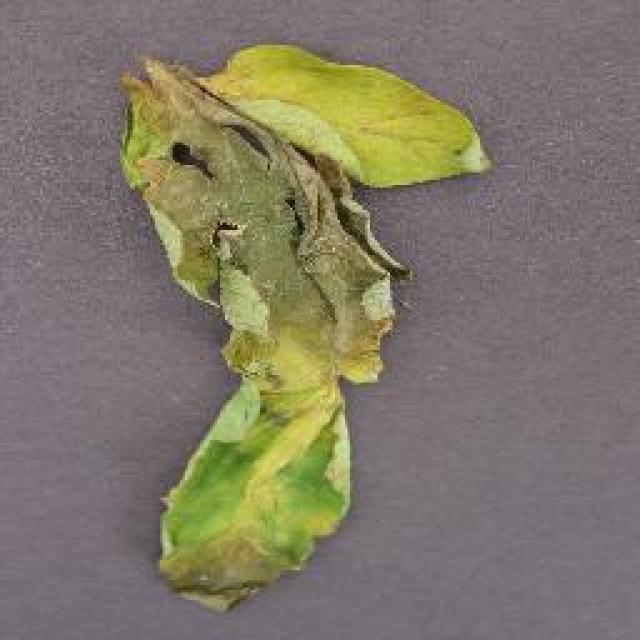Tomato___Late_blight: (114, 44, 494, 615)
